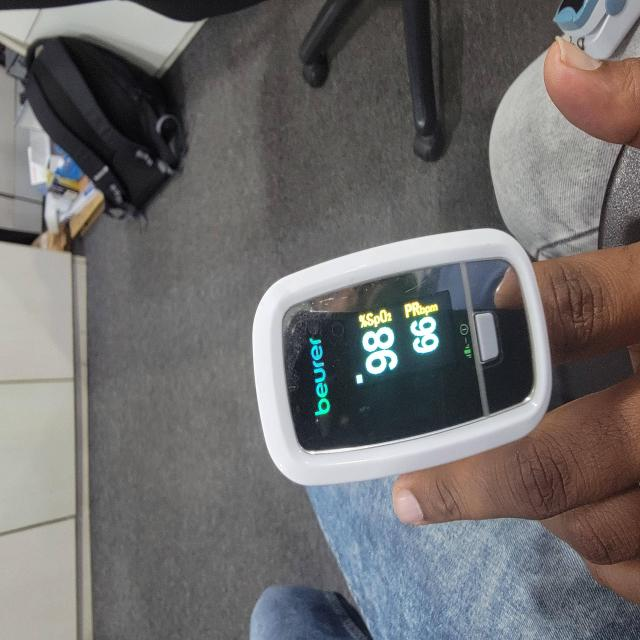spo2: (251, 229, 554, 488)
